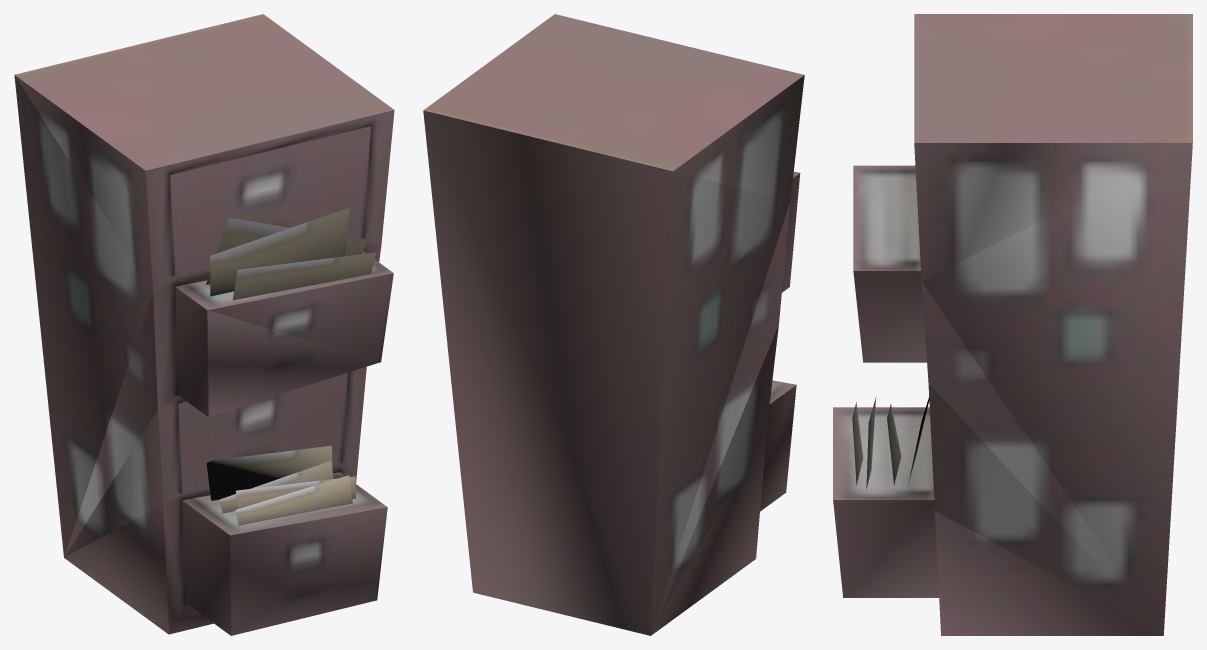
The model's file is field_maze_cabinet.glb.
3 views of the same model, side by side, from view 1: azimuth 30°, elevation 25°; view 2: azimuth 150°, elevation 25°; view 3: azimuth 270°, elevation 25° (orthographic). The views are drawn at different scales.
Visible parts, largest first — view 1: prop_cabinetSmFalling_cfg; view 2: prop_cabinetSmFalling_cfg; view 3: prop_cabinetSmFalling_cfg.
Part boxes in pixels (box(x1,y1,x2,y2)): prop_cabinetSmFalling_cfg: box(14, 14, 394, 635); prop_cabinetSmFalling_cfg: box(423, 14, 804, 635); prop_cabinetSmFalling_cfg: box(833, 14, 1192, 635).
Bounding box in the file's own units: 2.78 × 5.14 × 3.27.
1 material, 1 textured.
